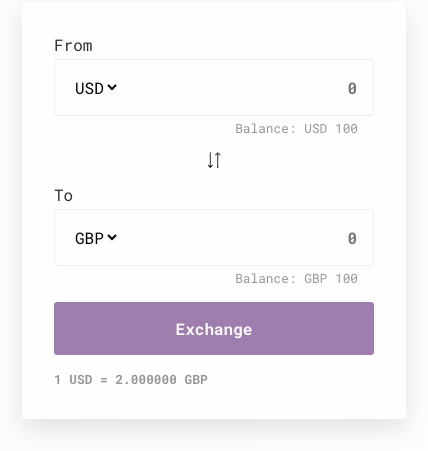
Exchange component › should change currency
Select "GBP" in the dropdown with class "select" below "From" at (96, 87), box [71,76,120,98]
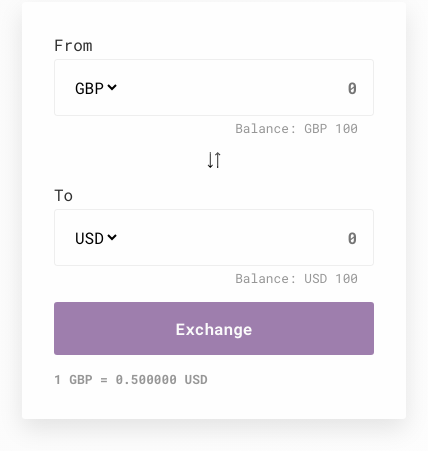
Check: the text with class "balance" shows "GBP", box [235,120,358,136]
Select "EUR" in the dropdown with class "select" below "To" at (96, 237), box [71,226,120,248]
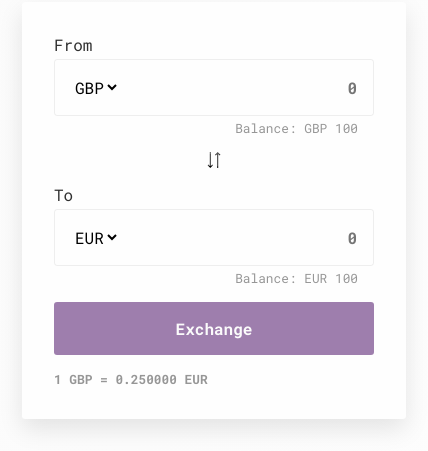
Check: the text with class "balance" shows "EUR", box [235,270,358,286]
